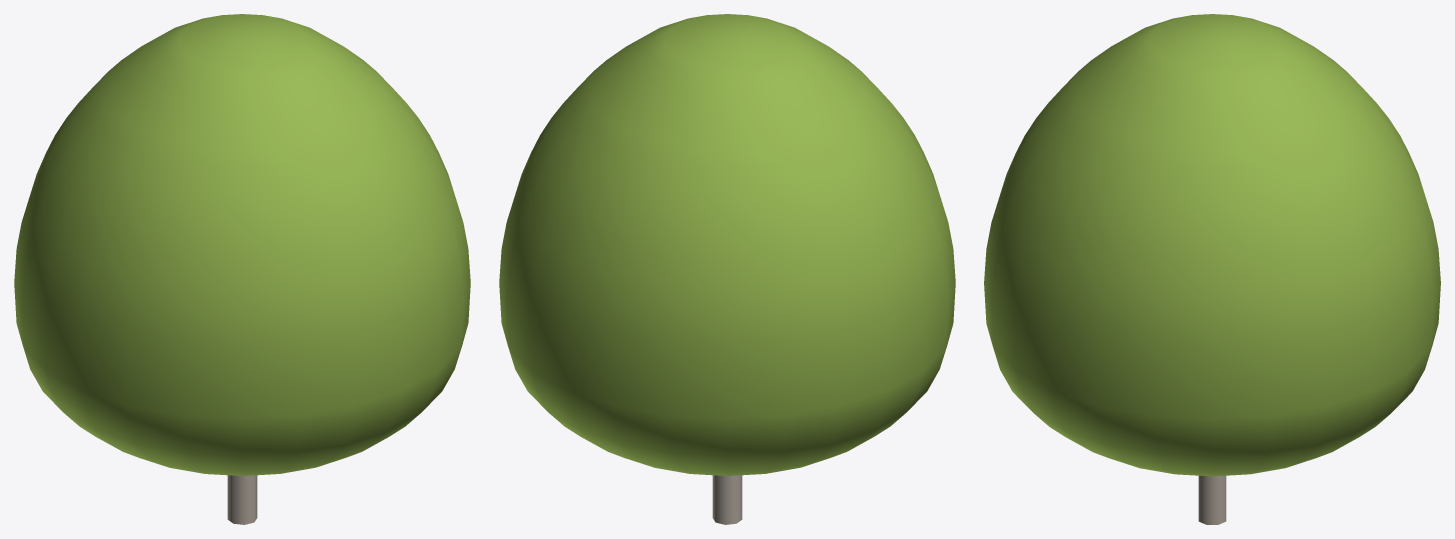
Rendered from CastaneaDentata.glb.
3 renders of one model, left to right at view 1: azimuth 30°, elevation 25°; view 2: azimuth 150°, elevation 25°; view 3: azimuth 270°, elevation 25°, orthographic.
Visible parts, largest first — view 1: American_Chestnut__Schematic_LOD3; view 2: American_Chestnut__Schematic_LOD3; view 3: American_Chestnut__Schematic_LOD3.
Part boxes in pixels (bbox=[...]): American_Chestnut__Schematic_LOD3: bbox=[14, 14, 470, 524]; American_Chestnut__Schematic_LOD3: bbox=[499, 14, 955, 524]; American_Chestnut__Schematic_LOD3: bbox=[984, 14, 1440, 524].
Bounding box in the file's own units: 18.6 × 21.91 × 18.6.
